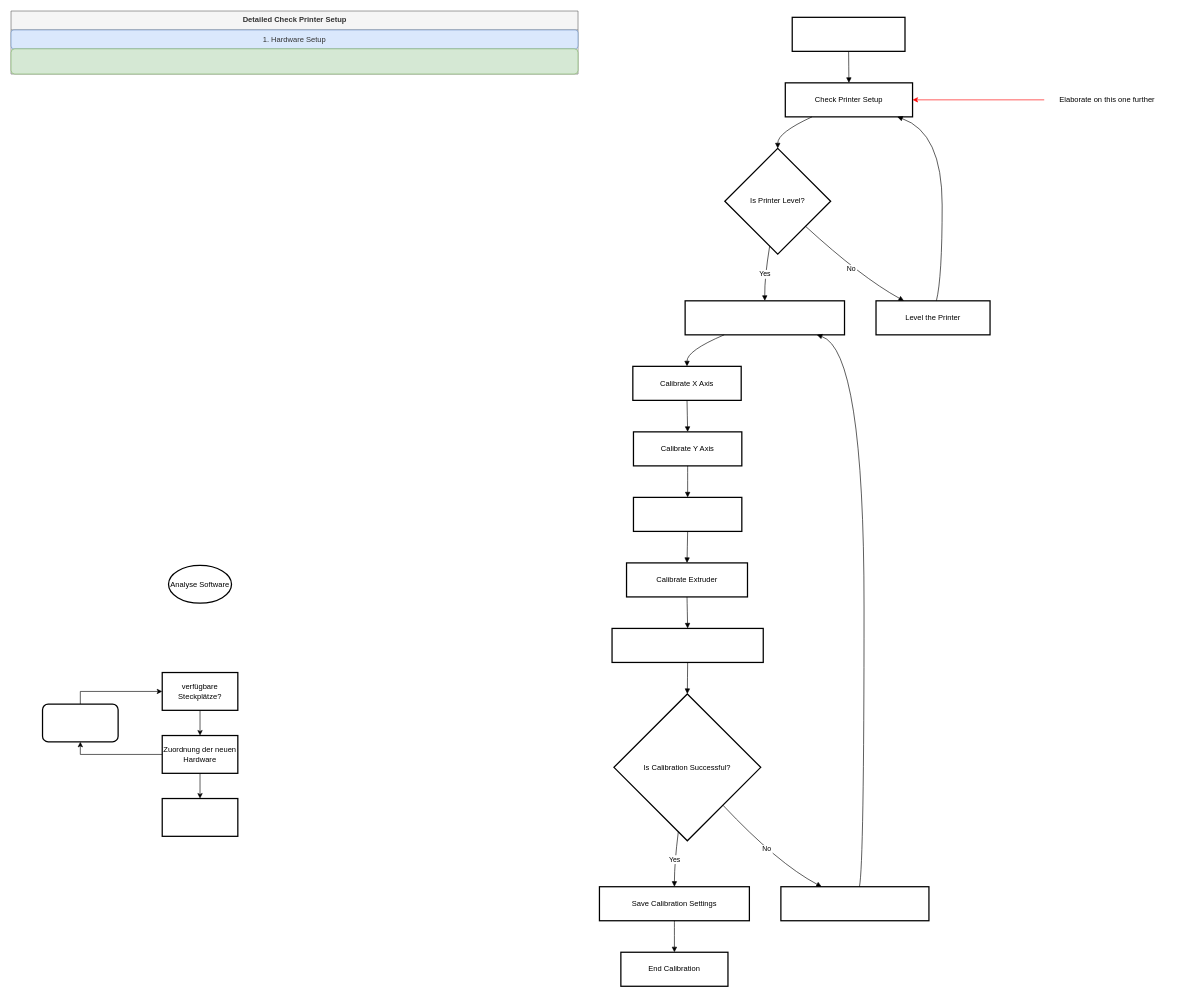
This 1181x998 diagram has some shape labels left out. Each missing label, with the centre of its shape:
Anpassung Firmware I/O: the point at 199,817
Calibrate Additional Axes: the point at 687,645
Calibrate Z Axis: the point at 687,514
Proceed to Axis Calibration: the point at 764,317
Recheck Axis Calibration: the point at 854,903
Start Calibration: the point at 848,34
Unpack Printer & Components: the point at 294,61
